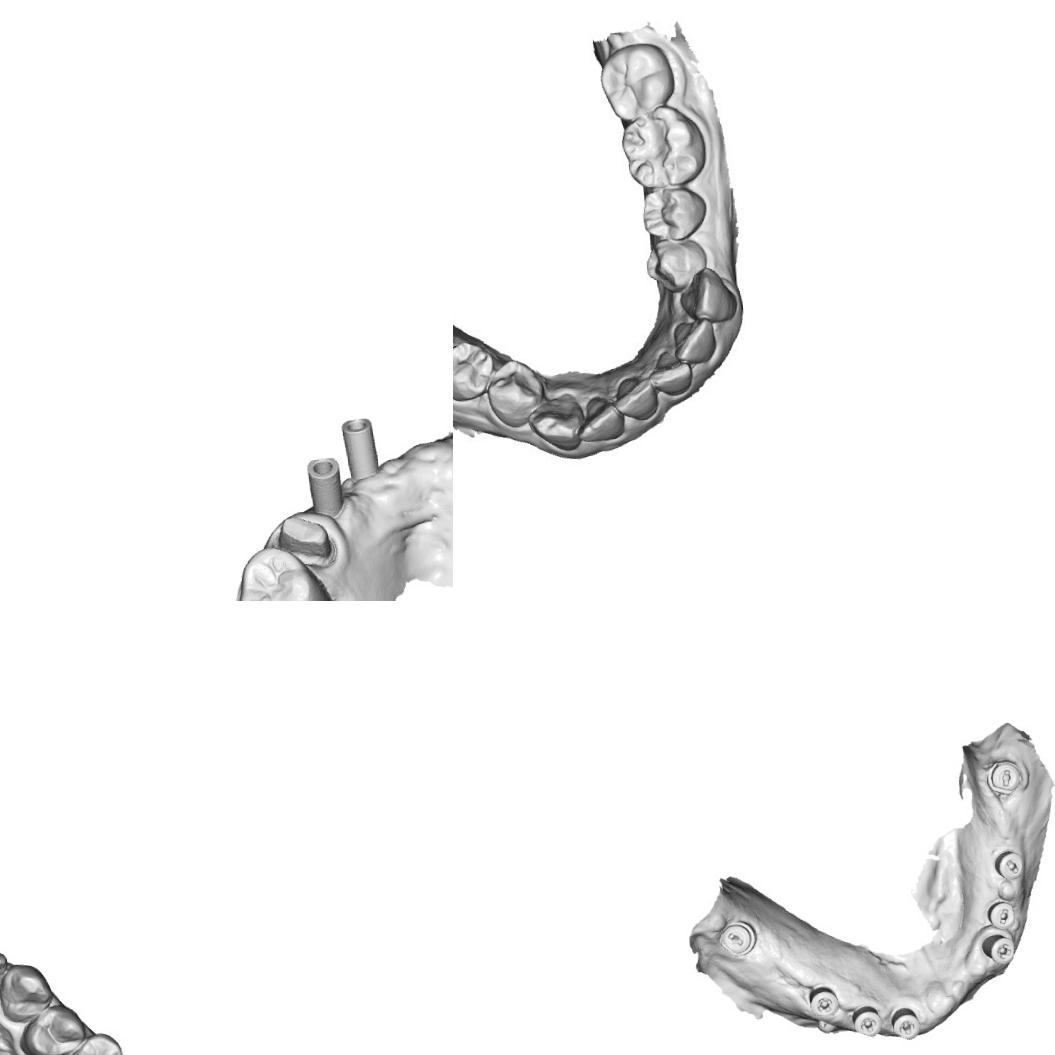canine: (680, 263, 741, 326), (0, 960, 56, 1023), (528, 392, 586, 451)
crown: (274, 507, 336, 568)
implant: (340, 416, 381, 482), (304, 454, 346, 518)
implant_minus: (716, 916, 760, 961), (983, 755, 1024, 797), (992, 848, 1028, 882), (985, 898, 1017, 930)
implant_plus: (979, 930, 1018, 967), (849, 1002, 886, 1039), (889, 1004, 922, 1044), (806, 984, 842, 1019)
incisor: (673, 316, 724, 370), (614, 371, 666, 422), (579, 396, 623, 446), (651, 355, 698, 399)
molar: (621, 108, 702, 184), (234, 541, 336, 601), (600, 44, 678, 117)
premolar: (636, 184, 706, 244), (16, 1001, 89, 1055), (482, 363, 542, 425), (643, 236, 707, 286), (453, 341, 492, 399), (53, 1030, 125, 1055)
